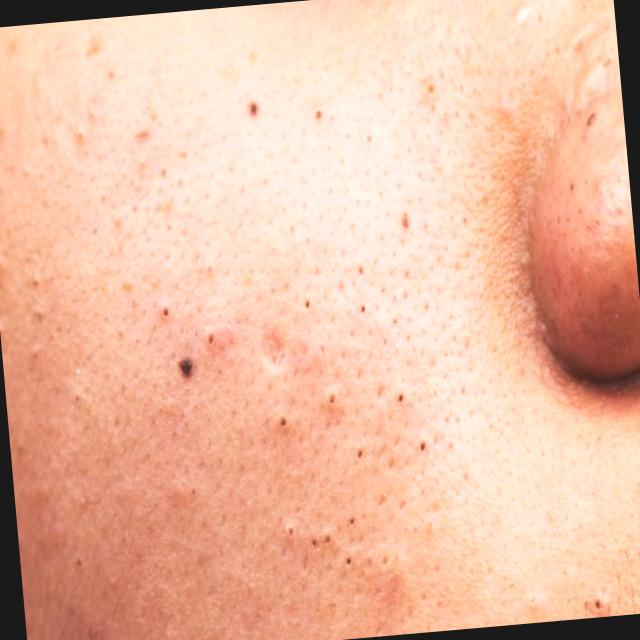blackhead: (250, 105, 256, 113), (402, 218, 408, 226), (588, 116, 594, 122), (76, 559, 81, 566), (163, 308, 168, 314), (366, 134, 371, 140), (428, 85, 432, 92), (316, 112, 320, 118), (282, 420, 286, 426), (346, 558, 350, 564), (75, 395, 79, 401), (33, 280, 37, 286), (78, 132, 82, 138), (37, 312, 41, 318), (325, 536, 329, 541), (420, 444, 424, 449), (596, 602, 600, 607), (289, 528, 292, 534), (192, 488, 195, 494), (359, 268, 362, 274), (208, 338, 212, 342), (330, 398, 334, 402), (312, 540, 316, 544), (361, 306, 364, 311), (399, 396, 402, 401), (570, 184, 573, 189), (184, 422, 187, 427), (306, 301, 308, 307), (350, 519, 353, 523), (393, 319, 396, 323), (463, 218, 466, 222), (34, 352, 36, 357), (358, 451, 361, 454), (194, 404, 196, 408), (208, 267, 210, 271), (110, 72, 112, 76), (358, 454, 360, 456)
